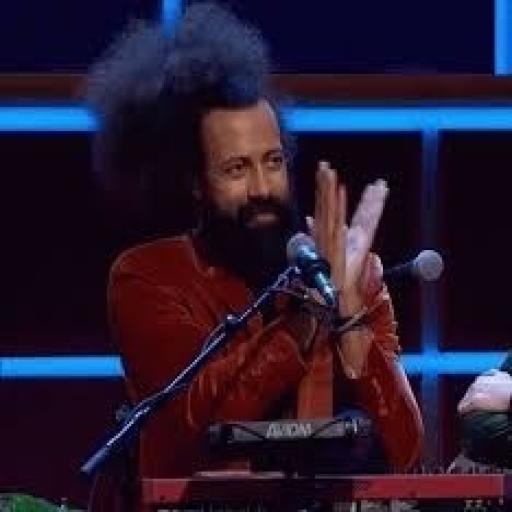clapping: (81, 0, 429, 510)
